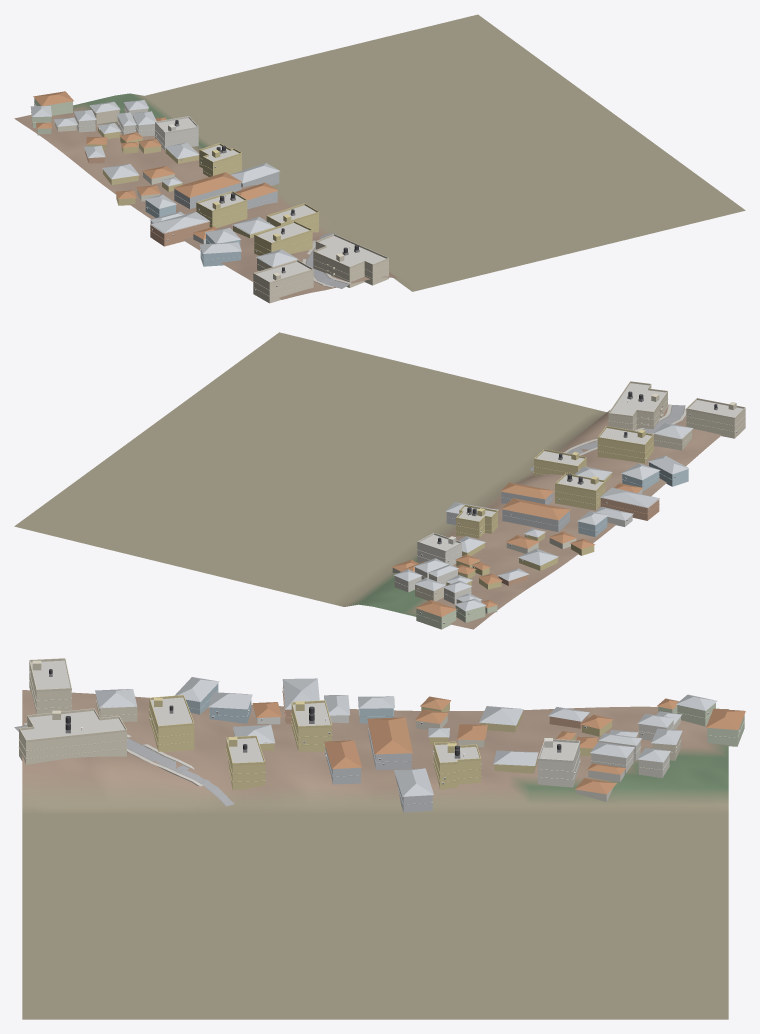
3 renders of one model, top to bottom at view 1: azimuth 30°, elevation 25°; view 2: azimuth 150°, elevation 25°; view 3: azimuth 270°, elevation 25°, orthographic. The views are drawn at different scales.
Visible parts, largest first — view 1: Terrain-col, Buildings-col, Details; view 2: Terrain-col, Buildings-col, Details, Roads-col; view 3: Terrain-col, Buildings-col, Details, Roads-col.
Part boxes in pixels (x1,y1,x2,y2): Terrain-col: (14, 14, 745, 299); Buildings-col: (30, 91, 388, 303); Details: (31, 103, 388, 296); Terrain-col: (14, 332, 721, 629); Buildings-col: (391, 383, 745, 629); Details: (395, 381, 745, 623); Roads-col: (530, 405, 685, 470); Terrain-col: (22, 690, 728, 1019); Buildings-col: (19, 660, 745, 812); Details: (18, 658, 744, 804); Roads-col: (14, 725, 234, 806).
Size of the model in its own units: 267 by 24.29 by 265.
